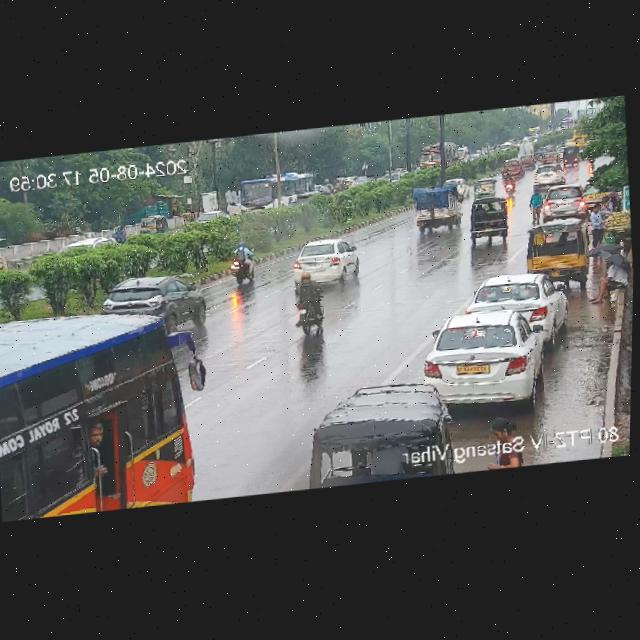bus: (0, 296, 206, 521), (233, 169, 318, 217)
car: (424, 299, 550, 418), (300, 375, 447, 457), (468, 261, 572, 349), (102, 266, 211, 335), (526, 220, 595, 293), (291, 233, 360, 284), (465, 193, 510, 246), (541, 180, 588, 225), (533, 163, 566, 191), (499, 156, 526, 181), (193, 208, 231, 224), (137, 212, 165, 232), (559, 146, 582, 165), (537, 149, 560, 165), (507, 170, 510, 171)
motorcycle: (289, 271, 328, 337), (227, 238, 256, 286)
person: (590, 236, 633, 302), (587, 202, 607, 244), (525, 190, 543, 227), (492, 415, 517, 440)
truck: (409, 180, 464, 235), (415, 137, 461, 174), (514, 140, 535, 159)
